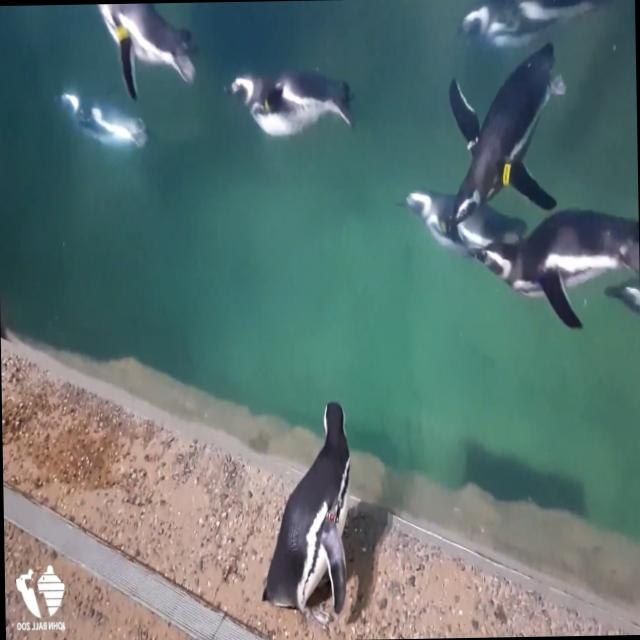penguin: (466, 206, 640, 334), (261, 401, 357, 631), (444, 40, 558, 233), (75, 2, 198, 102), (394, 184, 528, 264), (225, 70, 358, 138), (452, 0, 616, 48), (46, 86, 148, 161), (602, 271, 640, 318)
